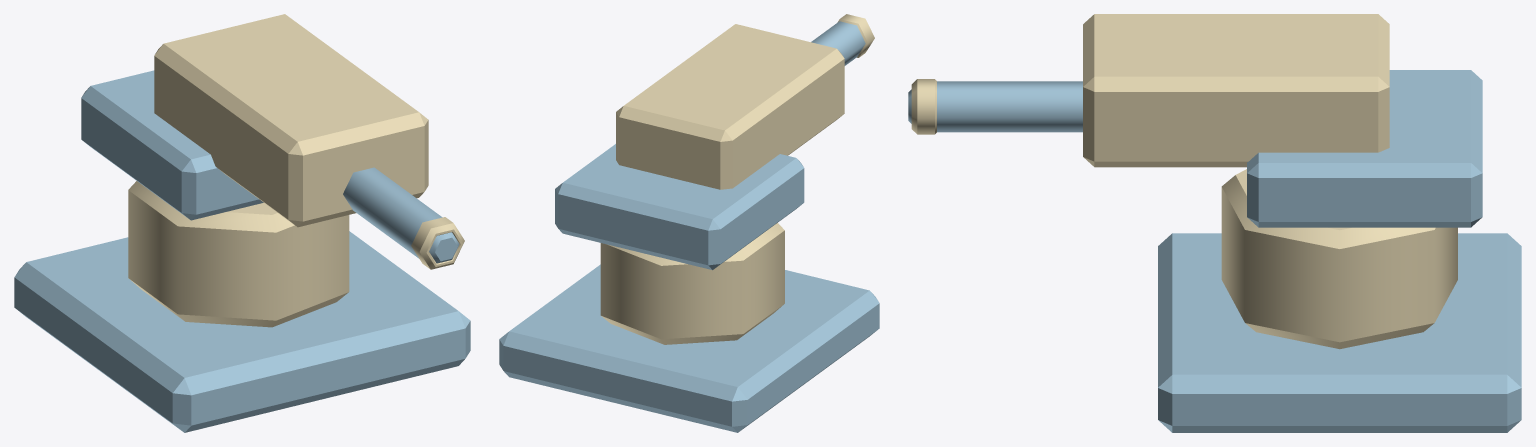
Rendered from R4W_Basic_LOD1.glb.
3 renders of one model, left to right at view 1: azimuth 30°, elevation 25°; view 2: azimuth 150°, elevation 25°; view 3: azimuth 270°, elevation 25°, orthographic. The views are drawn at different scales.
Parts seen in each view (by area): view 1: R4W_Basic_LOD1; view 2: R4W_Basic_LOD1; view 3: R4W_Basic_LOD1.
Part boxes in pixels (x1=…): R4W_Basic_LOD1: x1=14, y1=14, x2=470, y2=432; R4W_Basic_LOD1: x1=499, y1=14, x2=879, y2=432; R4W_Basic_LOD1: x1=908, y1=14, x2=1521, y2=432.
Size of the model in its own units: 0.51 by 0.49 by 0.86.
